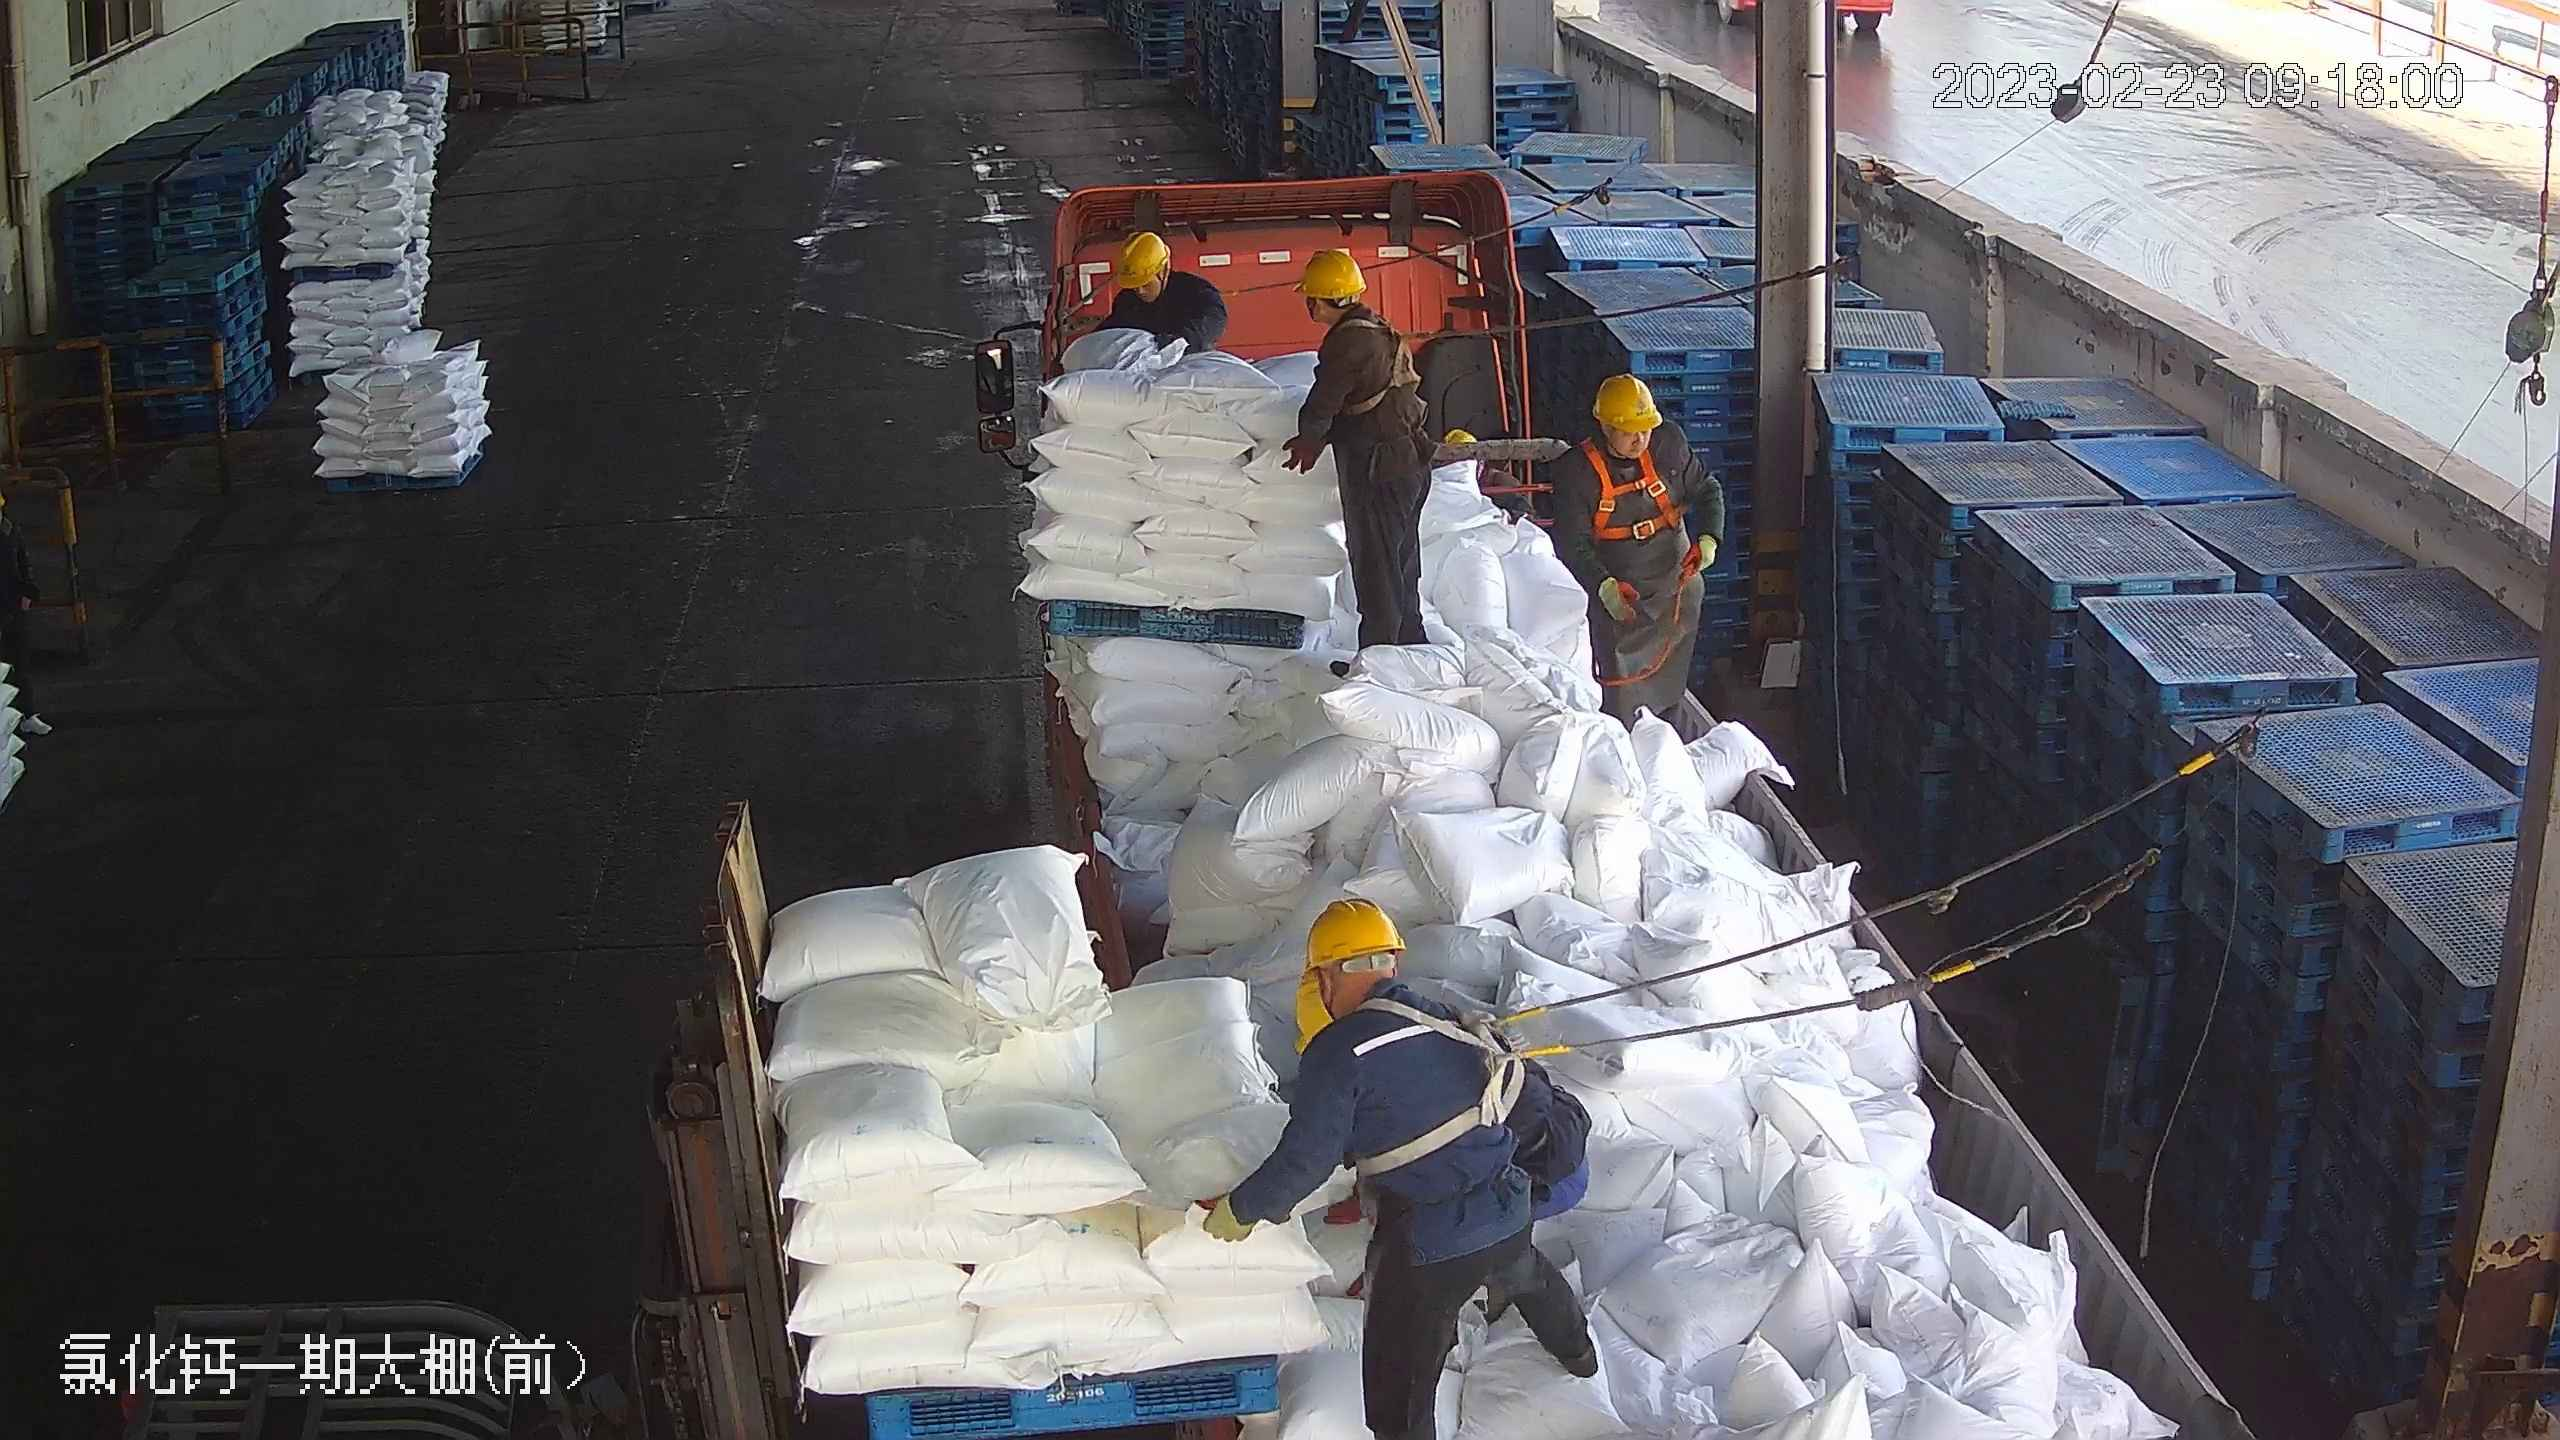belt: (1366, 1005, 1558, 1175), (1336, 315, 1436, 416), (1590, 458, 1687, 550)
head: (1282, 899, 1482, 1086), (1565, 373, 1681, 494), (1293, 252, 1403, 372), (1106, 231, 1209, 323)
helmet: (1296, 895, 1405, 966), (1587, 370, 1663, 432), (1290, 246, 1368, 298), (1110, 229, 1170, 286)
people: (1212, 898, 1604, 1434), (1279, 247, 1442, 675), (1559, 372, 1724, 753)
truck: (969, 176, 2264, 1431)
